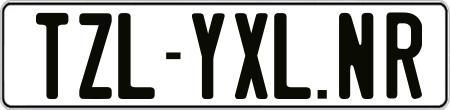L: (273, 11, 315, 97), (118, 10, 157, 100)
N: (337, 10, 372, 98)
R: (387, 9, 425, 100)
T: (35, 10, 73, 102)
X: (233, 13, 268, 101)
Y: (189, 12, 222, 103)
Z: (79, 11, 116, 100)
